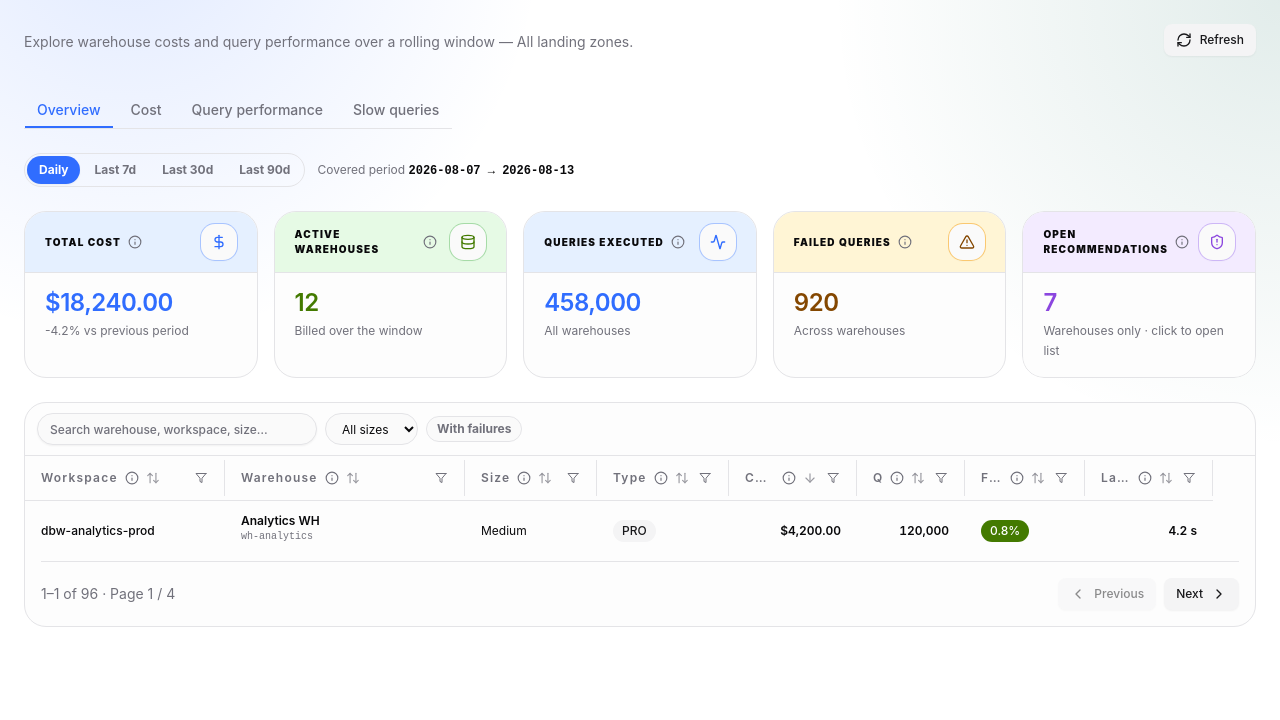
Test case: ComputeSqlWarehouses › keeps the search box reachable when the server returns nothing
The image size is (1280, 720).
Check: the table is shown, box [25,456,1213,560]
In the field named "Search overview warehouses": (177, 429) [37,413,317,445], type "zzz"
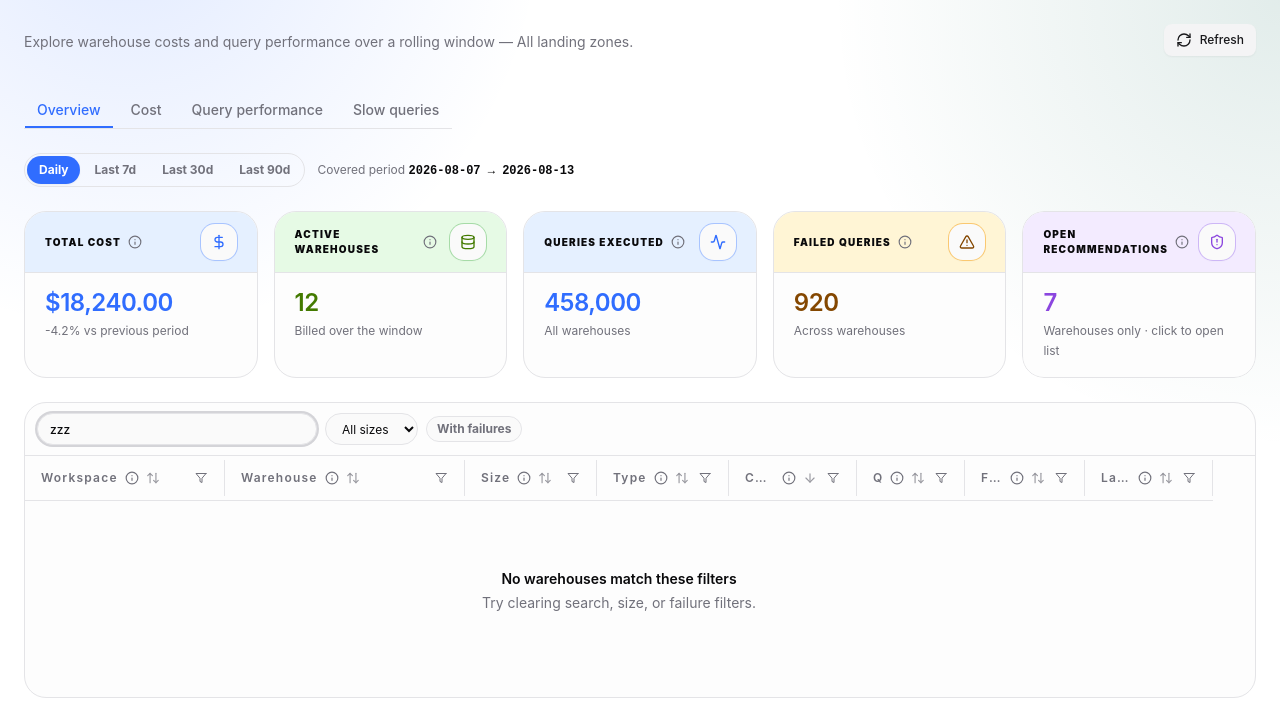
Check: the text "No warehouses match these filters" is shown, box [501,570,737,586]
